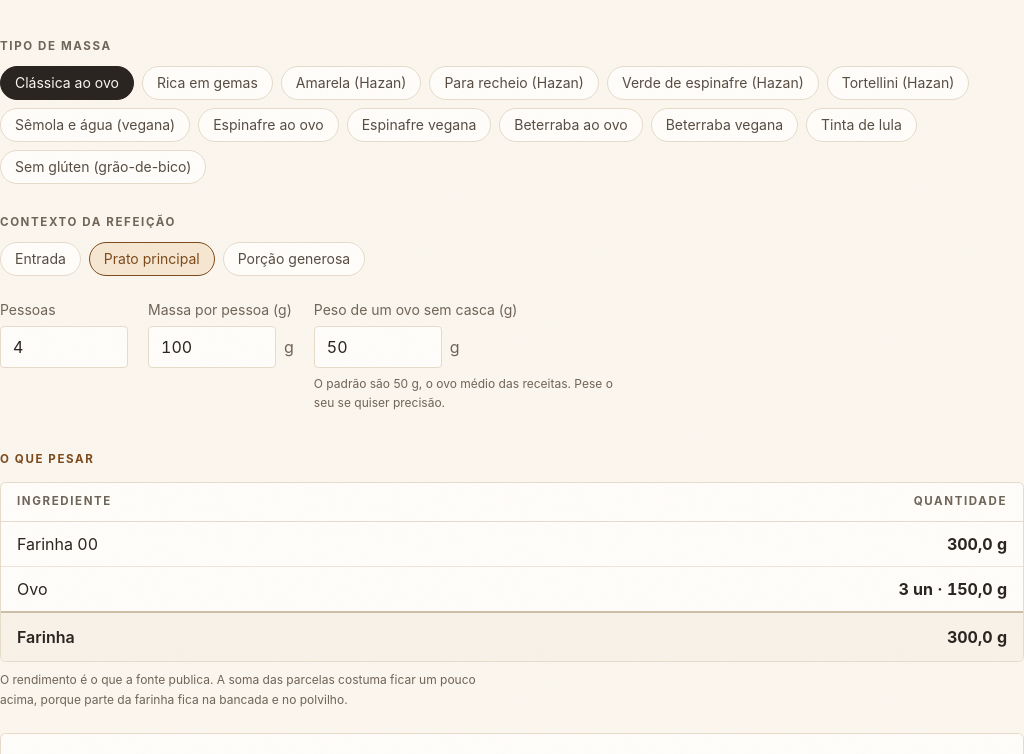
Test: calculadora de massa fresca › mostra a farinha que a Hazan manda incorporar na sova
The width and height of the screenshot is (1024, 754).
Click the button "Amarela (Hazan)".
click(351, 83)  # box [281,66,421,100]
(page scrolled)
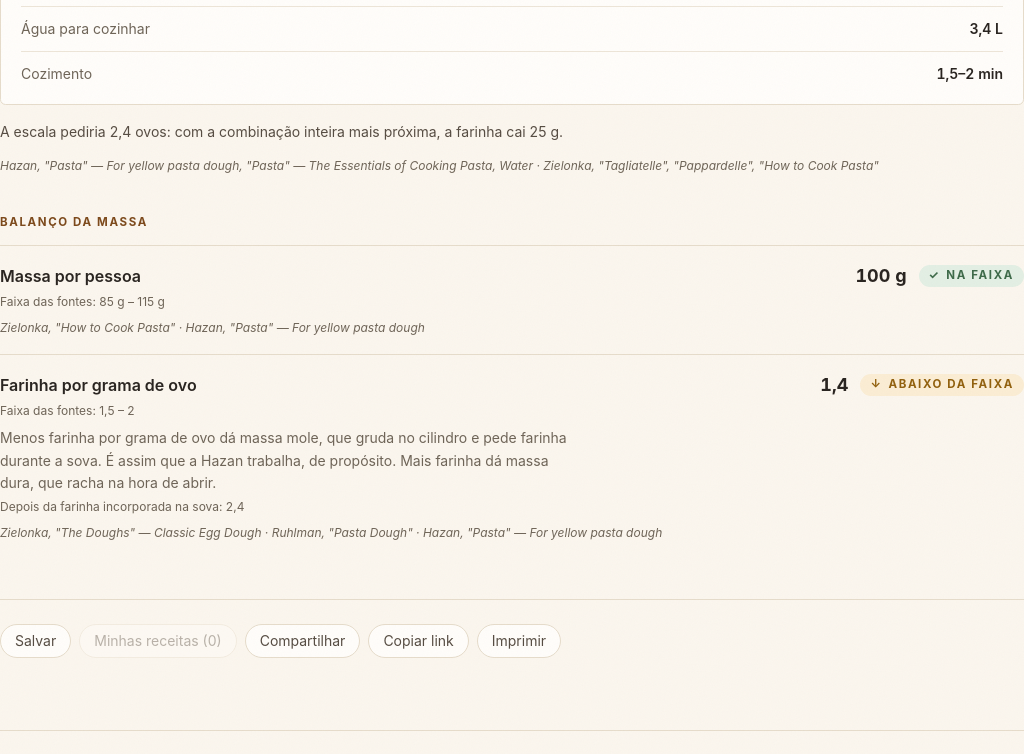
Expected: the text "Abaixo da faixa" is shown, [888,377,1014,391]
